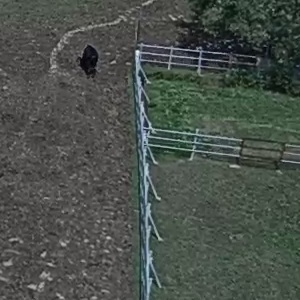cow: (70, 36, 113, 88)
